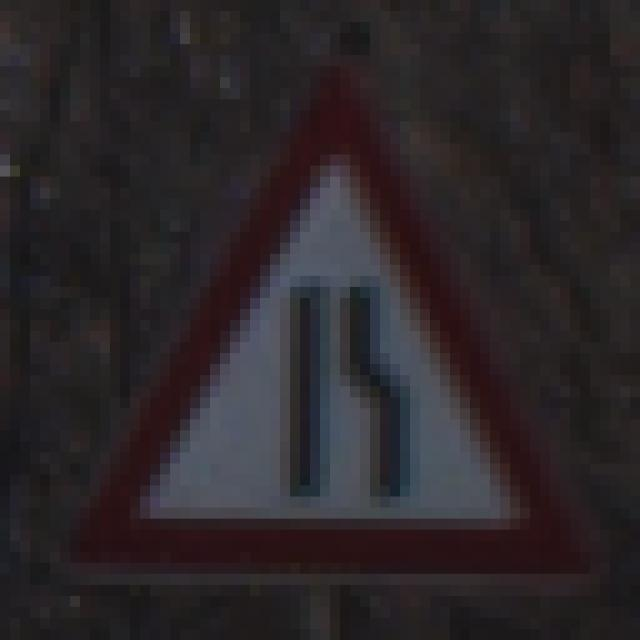narrow road ahead: (51, 78, 597, 595)
